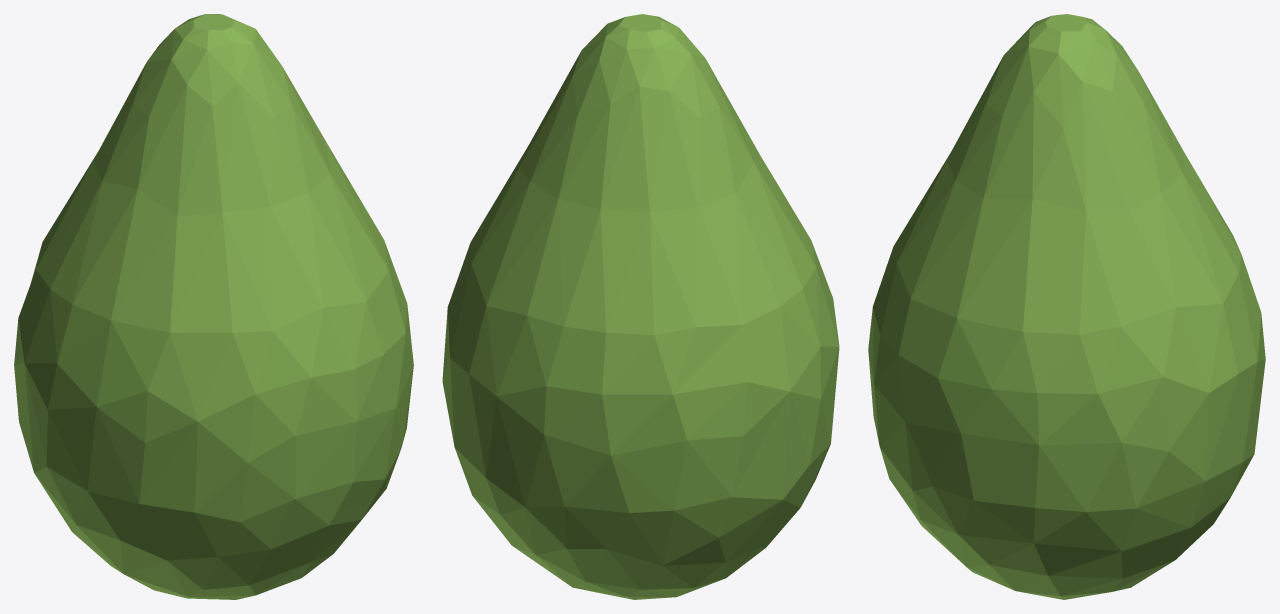
The model's file is avakoda.fbx.
3 views of the same model, side by side, from view 1: azimuth 30°, elevation 25°; view 2: azimuth 150°, elevation 25°; view 3: azimuth 270°, elevation 25° (orthographic).
Visible parts, largest first — view 1: Avokado.003; view 2: Avokado.003; view 3: Avokado.003.
Boxes of the visible parts, x1,y1,x2,y2 form: Avokado.003: (14, 14, 413, 599); Avokado.003: (442, 14, 839, 599); Avokado.003: (868, 14, 1265, 599).
Bounding box in the file's own units: 0.0471 × 0.0736 × 0.0472.
